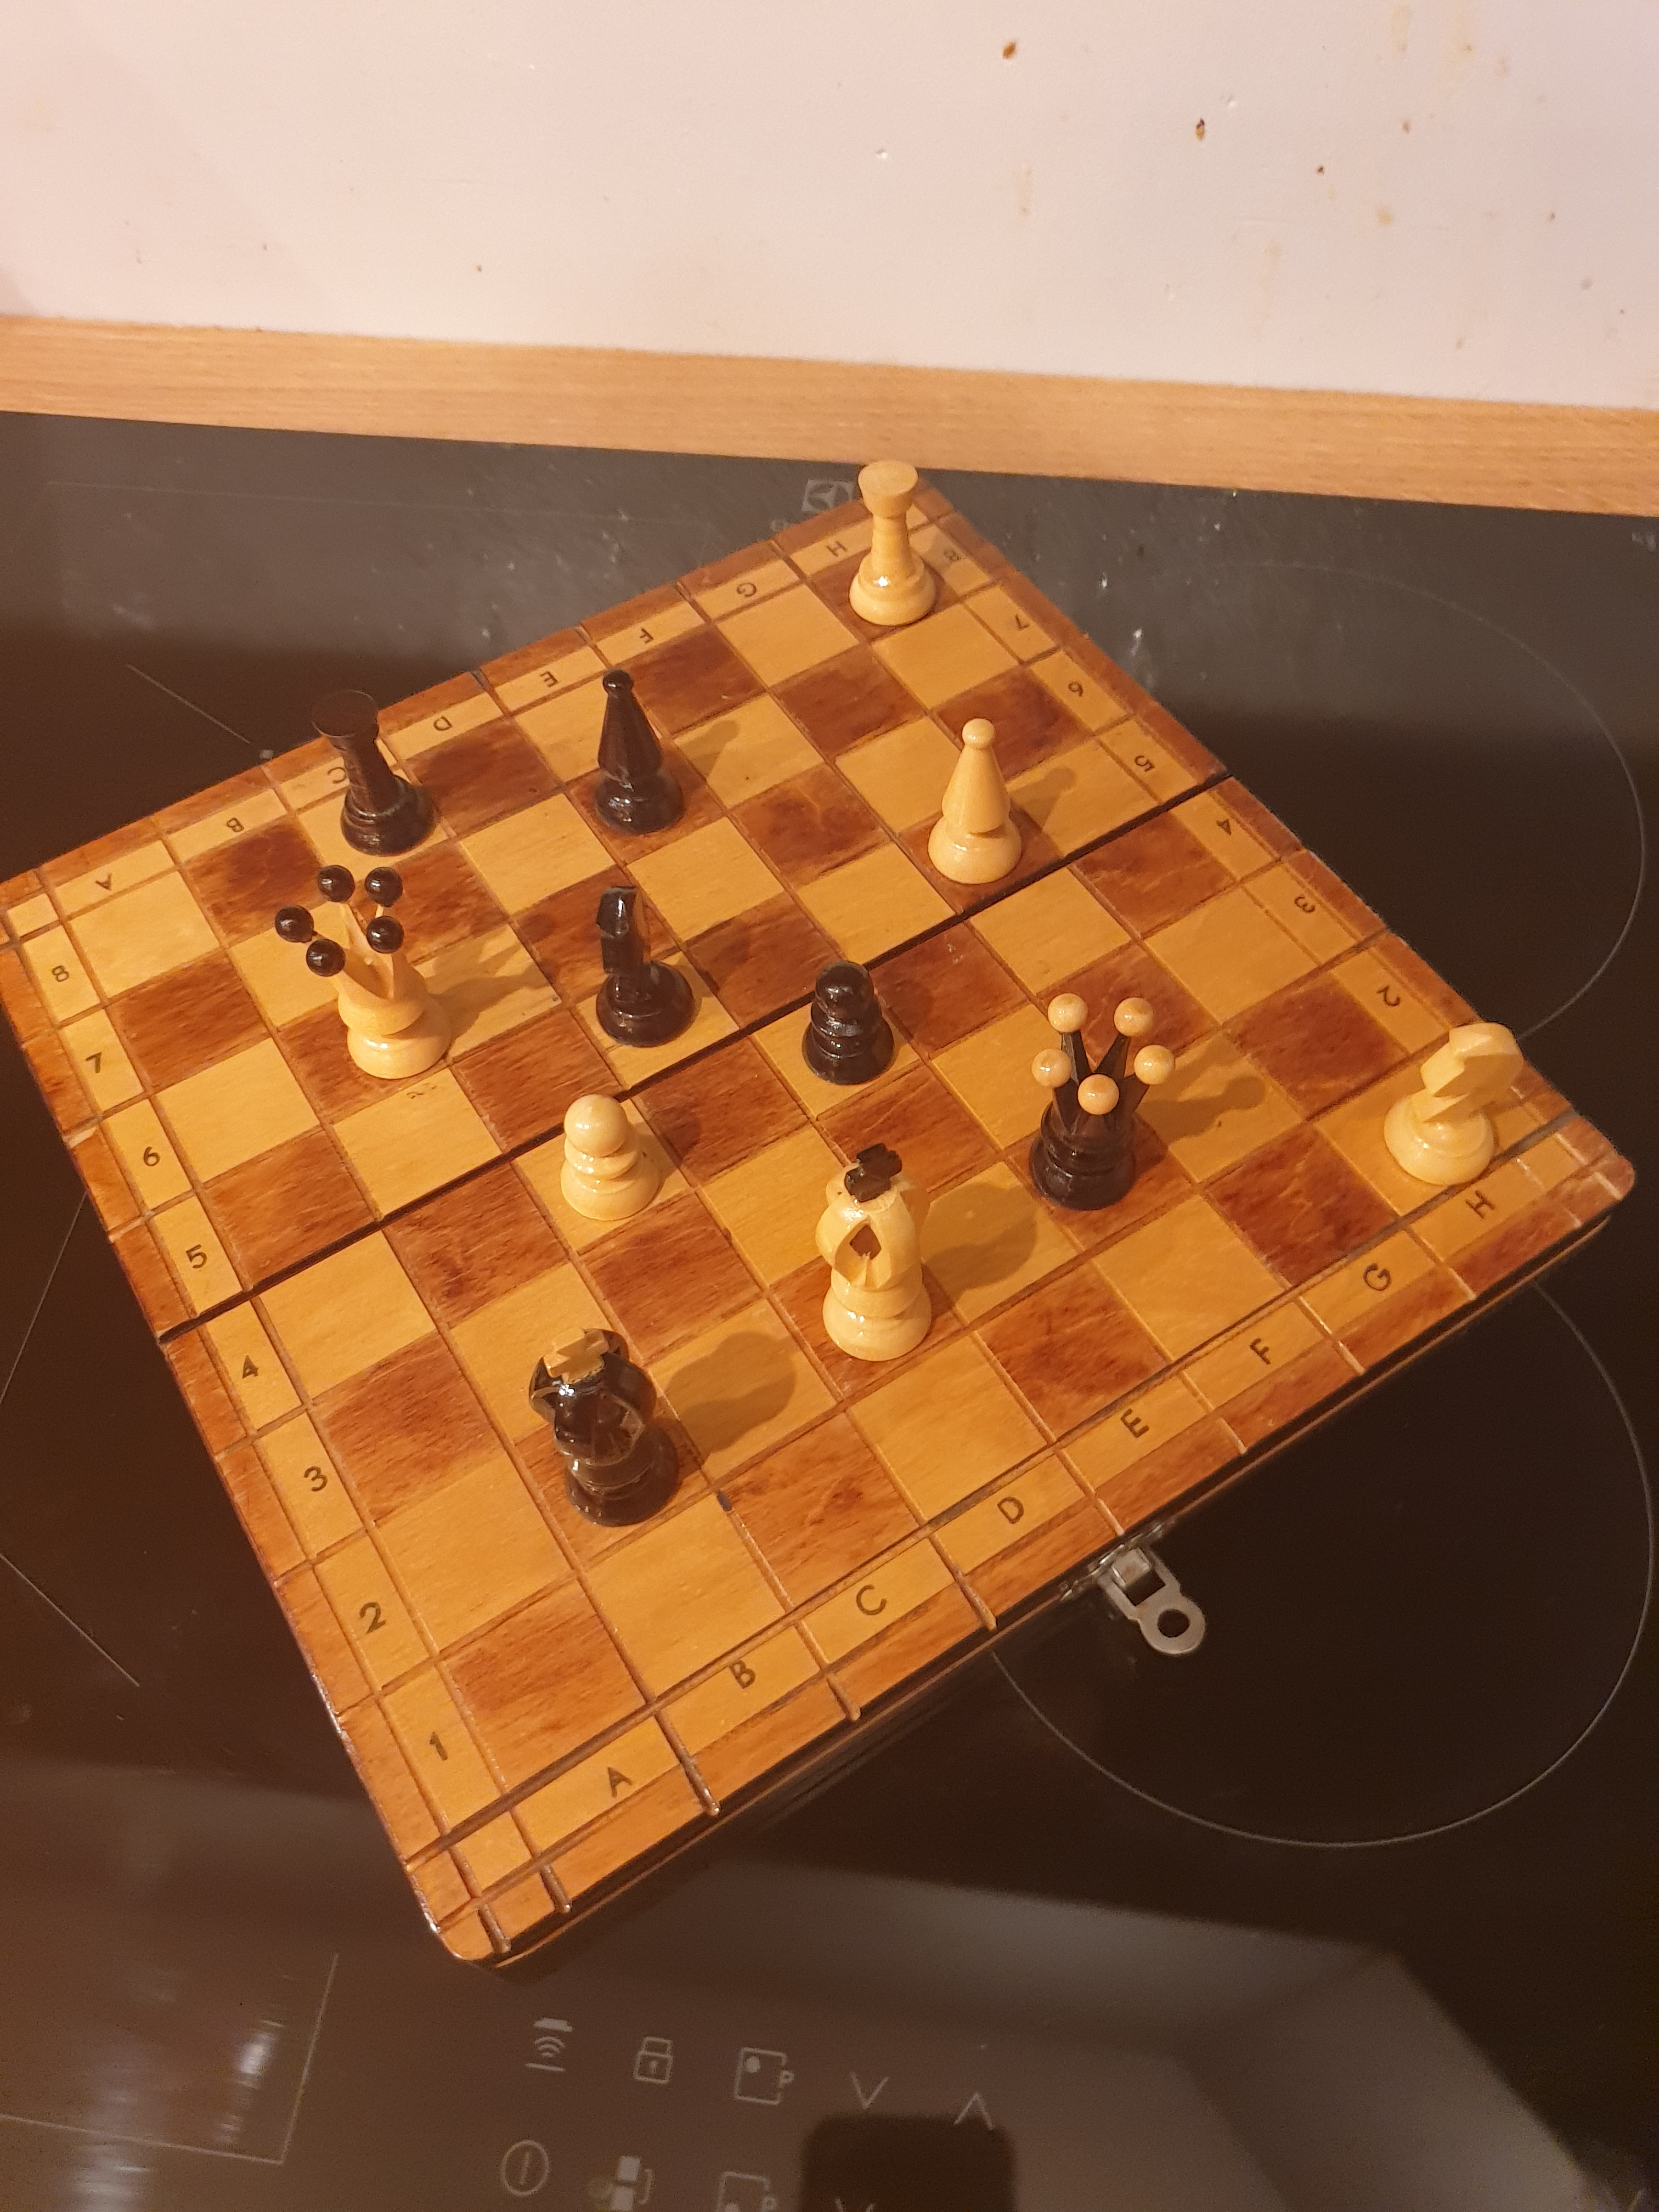bbishop: (579, 653, 694, 852)
bking: (523, 1305, 694, 1547)
bknight: (577, 874, 708, 1057)
bpawn: (793, 949, 910, 1096)
bqueen: (1006, 975, 1180, 1224)
brook: (296, 671, 444, 866)
wbishop: (920, 709, 1030, 902)
wking: (803, 1137, 955, 1386)
wknight: (1375, 1008, 1530, 1195)
wpawn: (545, 1080, 674, 1244)
wqueen: (272, 855, 462, 1090)
wrook: (840, 446, 943, 643)
